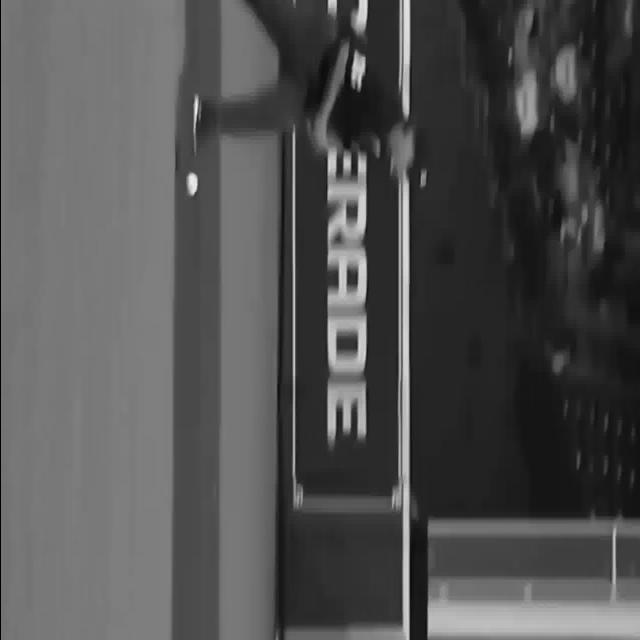baseball: (185, 171, 197, 196)
shoe: (192, 93, 202, 155)
